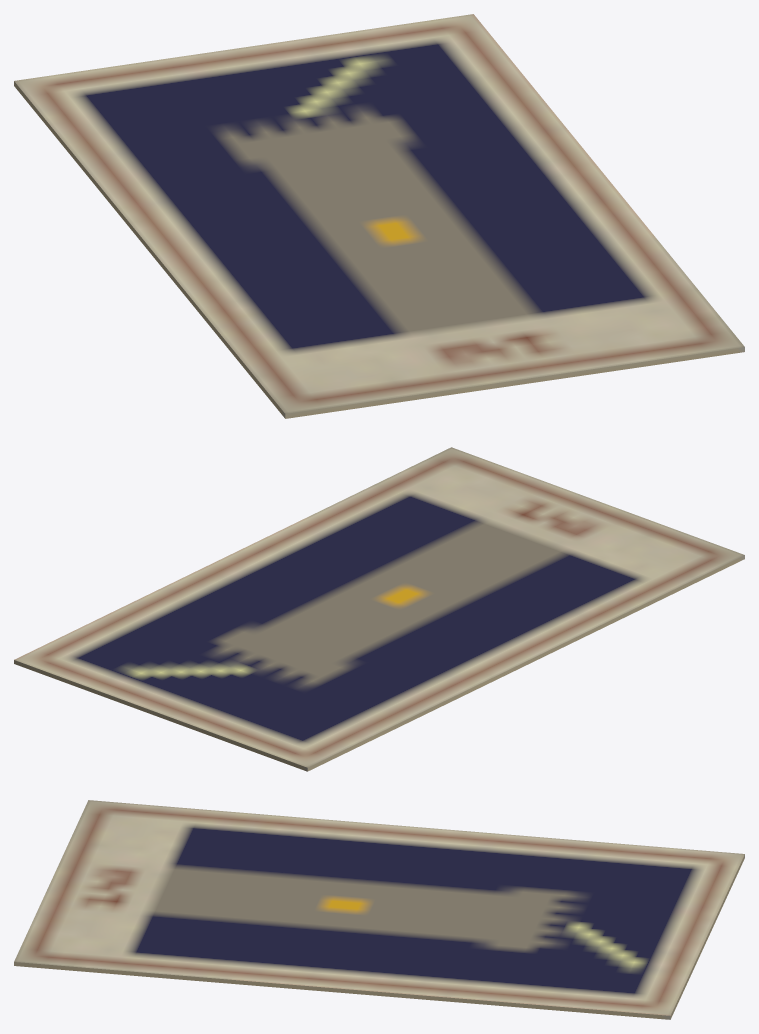
Rendered from tarot_card.fbx.
The picture shows the model from 3 angles, top to bottom: view 1: azimuth 30°, elevation 25°; view 2: azimuth 150°, elevation 25°; view 3: azimuth 270°, elevation 25°; orthographic projection. The views are drawn at different scales.
Visible parts, largest first — view 1: tarot_card; view 2: tarot_card; view 3: tarot_card.
Part boxes in pixels (box(x1,y1,x2,y2)): tarot_card: box(14, 14, 744, 418); tarot_card: box(14, 447, 744, 771); tarot_card: box(14, 800, 744, 1019).
Bounding box in the file's own units: 0.0916 × 0.0008 × 0.1312.
1 material, 1 textured.
